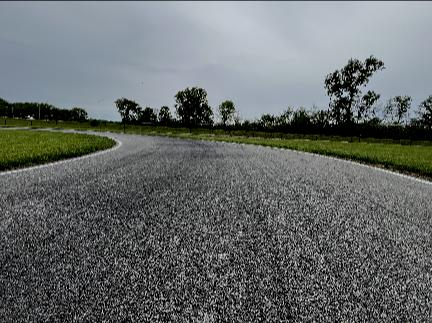Grass: (141, 126, 431, 177), (162, 134, 431, 177), (0, 129, 115, 169), (0, 117, 208, 135)
Lane: (0, 132, 431, 322)
